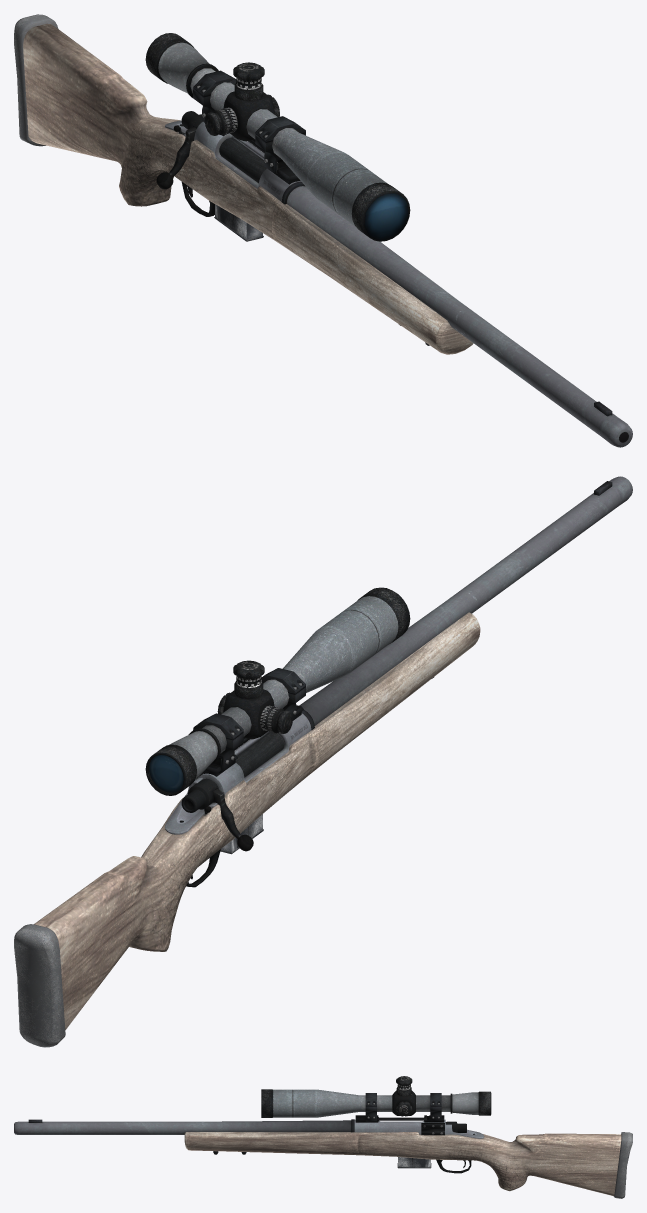
The model's file is Weapon_M24_LOD0.glb.
3 renders of one model, top to bottom at view 1: azimuth 30°, elevation 25°; view 2: azimuth 150°, elevation 25°; view 3: azimuth 270°, elevation 25°, orthographic. The views are drawn at different scales.
Parts seen in each view (by area): view 1: Hoodie; view 2: Hoodie; view 3: Hoodie.
Part boxes in pixels (x1,y1,x2,y2): Hoodie: [14, 14, 632, 447]; Hoodie: [14, 476, 632, 1047]; Hoodie: [14, 1076, 632, 1198].
Bounding box in the file's own units: 0.0835 × 0.2505 × 1.18.
1 material, 1 textured.
